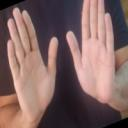hand: (5, 6, 58, 124), (66, 0, 114, 105)
